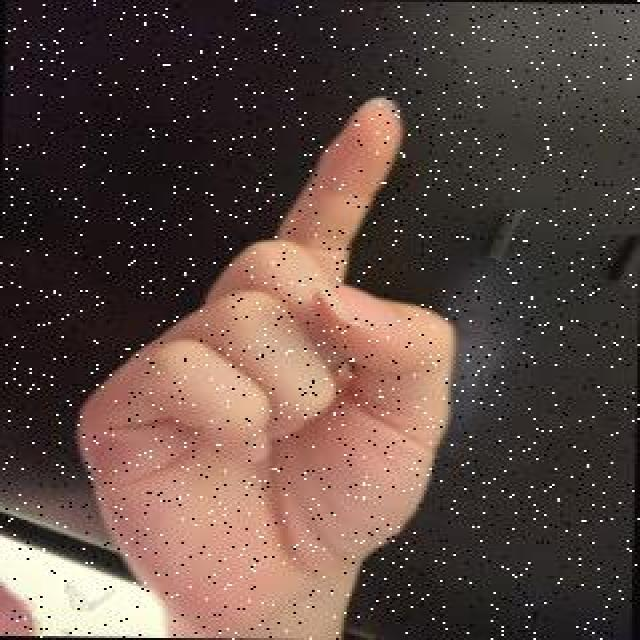Z: (67, 88, 472, 640)
